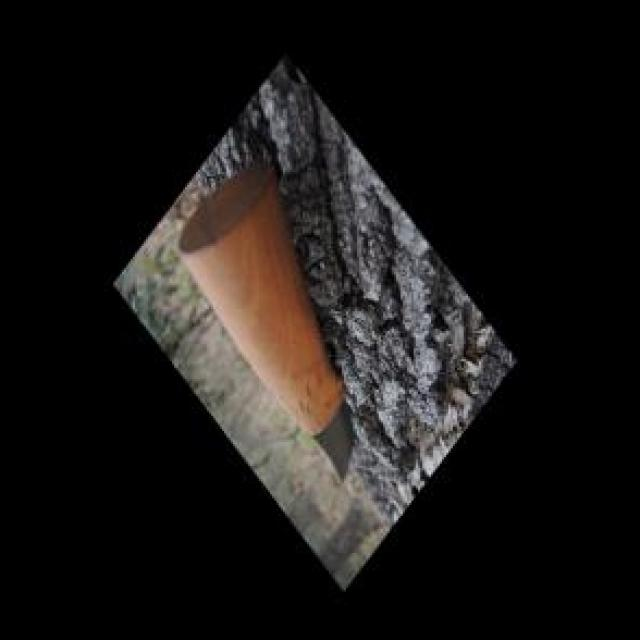knife: (175, 168, 355, 483)
